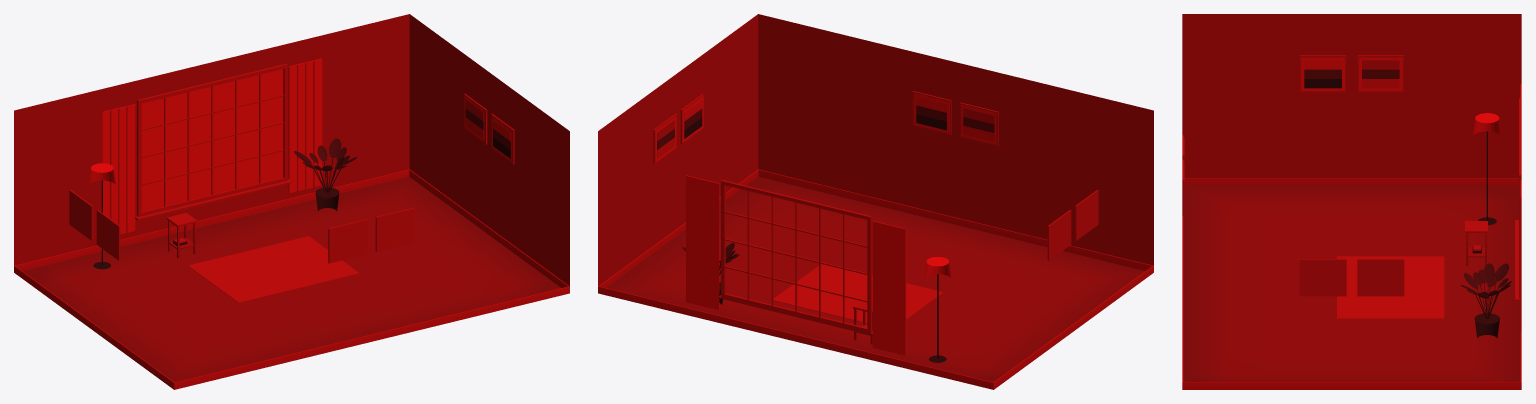
Rendered from room_blossom.glb.
The picture shows the model from 3 angles, left to right: view 1: azimuth 30°, elevation 25°; view 2: azimuth 150°, elevation 25°; view 3: azimuth 270°, elevation 25°; orthographic projection. The views are drawn at different scales.
Parts seen in each view (by area): view 1: Shell, CenterWindow, CenterScreens, TankRug, CenterArtF, CenterArtRW, CenterArtLW, RightPlant, LeftTable, LeftLamp; view 2: Shell, CenterScreens, CenterWindow, TankRug, CenterArtF, CenterArtRW, CenterArtLW, LeftLamp; view 3: Shell, TankRug, CenterArtLW, CenterArtRW, RightPlant, LeftLamp, CenterWindow, LeftTable, CenterScreens.
Part boxes in pixels (<box>): Shell: <box>14,14,569,389</box>; CenterWindow: <box>135,63,291,220</box>; CenterScreens: <box>102,58,322,234</box>; TankRug: <box>188,236,359,302</box>; CenterArtF: <box>328,207,414,263</box>; CenterArtRW: <box>463,93,514,164</box>; CenterArtLW: <box>69,190,120,260</box>; RightPlant: <box>294,138,357,210</box>; LeftTable: <box>166,213,197,258</box>; LeftLamp: <box>88,163,115,269</box>; Shell: <box>598,14,1153,389</box>; CenterScreens: <box>686,175,906,355</box>; CenterWindow: <box>719,180,872,335</box>; TankRug: <box>773,264,943,323</box>; CenterArtF: <box>912,91,998,146</box>; CenterArtRW: <box>653,93,704,164</box>; CenterArtLW: <box>1047,190,1098,260</box>; LeftLamp: <box>924,257,951,362</box>; Shell: <box>1182,14,1521,389</box>; TankRug: <box>1337,256,1444,318</box>; CenterArtLW: <box>1299,55,1404,92</box>; CenterArtRW: <box>1299,259,1404,296</box>; RightPlant: <box>1461,263,1511,337</box>; LeftLamp: <box>1472,113,1501,225</box>; CenterWindow: <box>1515,98,1521,301</box>; LeftTable: <box>1465,221,1487,265</box>; CenterScreens: <box>1520,83,1521,331</box>.
Bounding box in the file's own units: 720 × 282 × 505.
